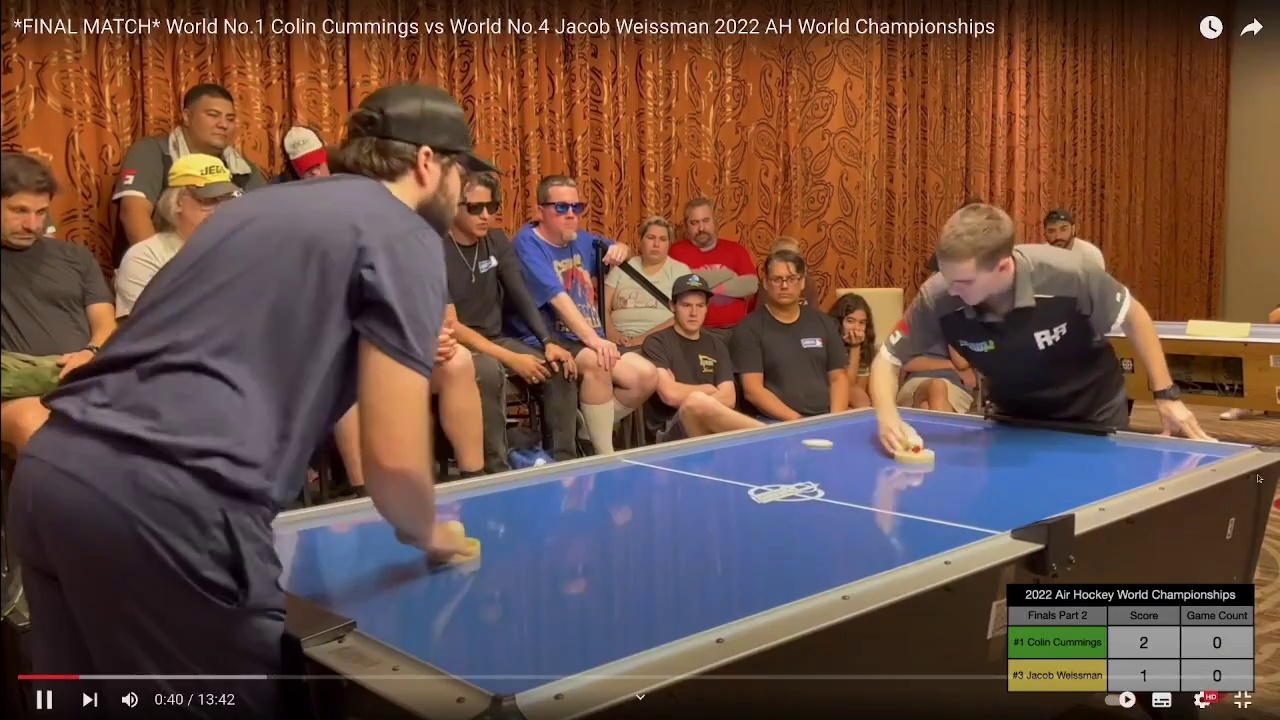player: (432, 516, 484, 565), (894, 435, 939, 467)
puck: (799, 435, 835, 455)
table: (209, 404, 1280, 702)
